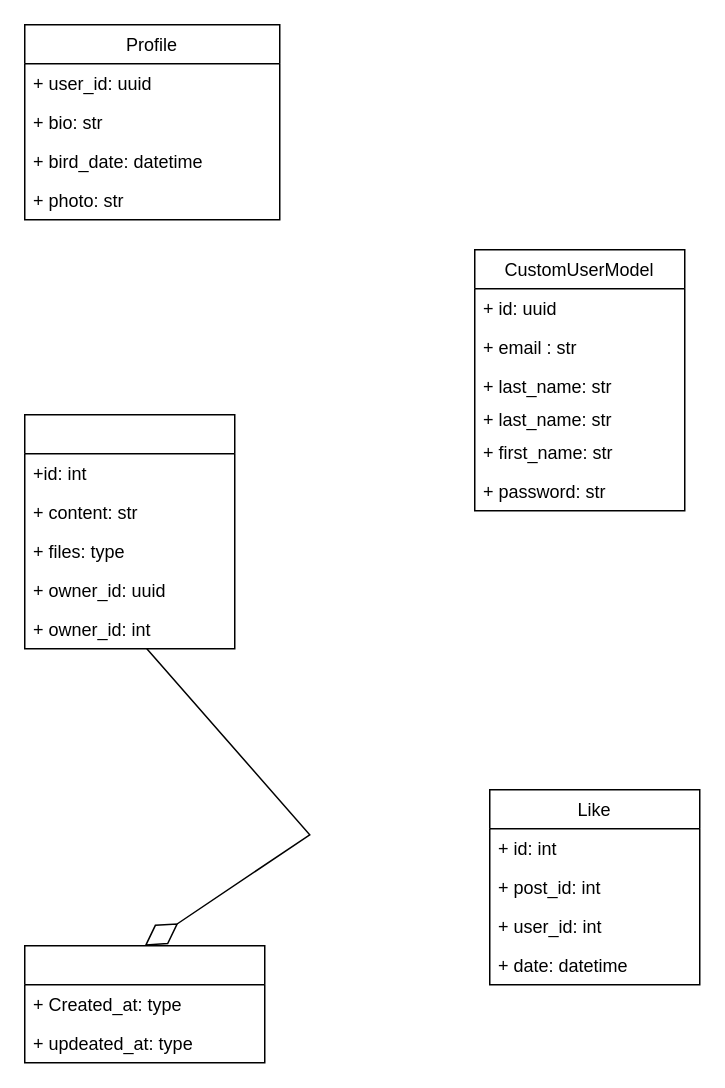
Image size: 725x1088. Some labels were removed from this diagram. The shapes that lost their labels are listed below. From the top down, each one's box as (x1, y1, x2, y2) in pixels, then its label:
(23, 413, 235, 649): Post
(23, 944, 265, 1063): CreationModificationMixin
